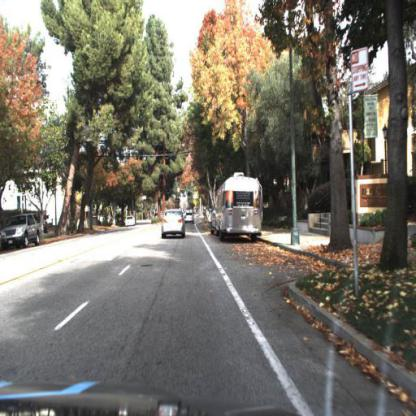car: (1, 207, 45, 254), (156, 204, 193, 247), (183, 206, 198, 227), (123, 217, 137, 237)
truck: (208, 166, 271, 254)
